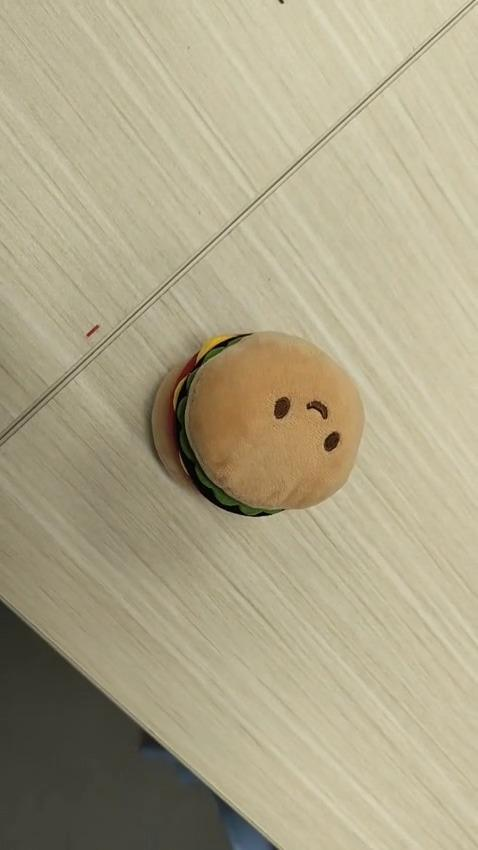hamburger: (150, 329, 365, 518)
